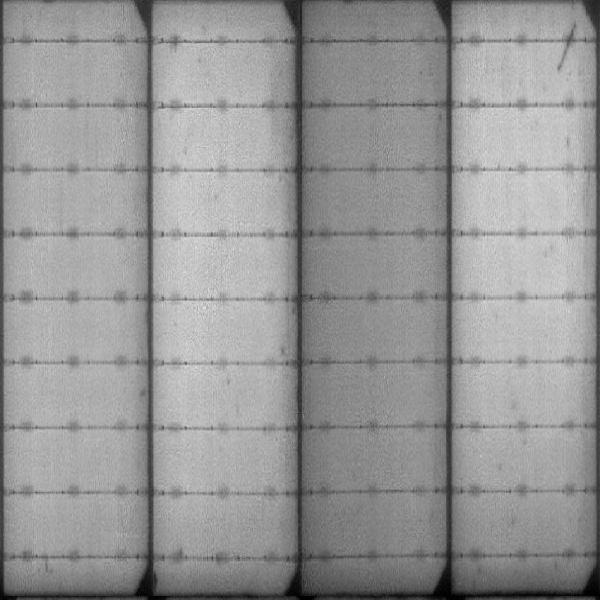scratch: (554, 21, 578, 71)
